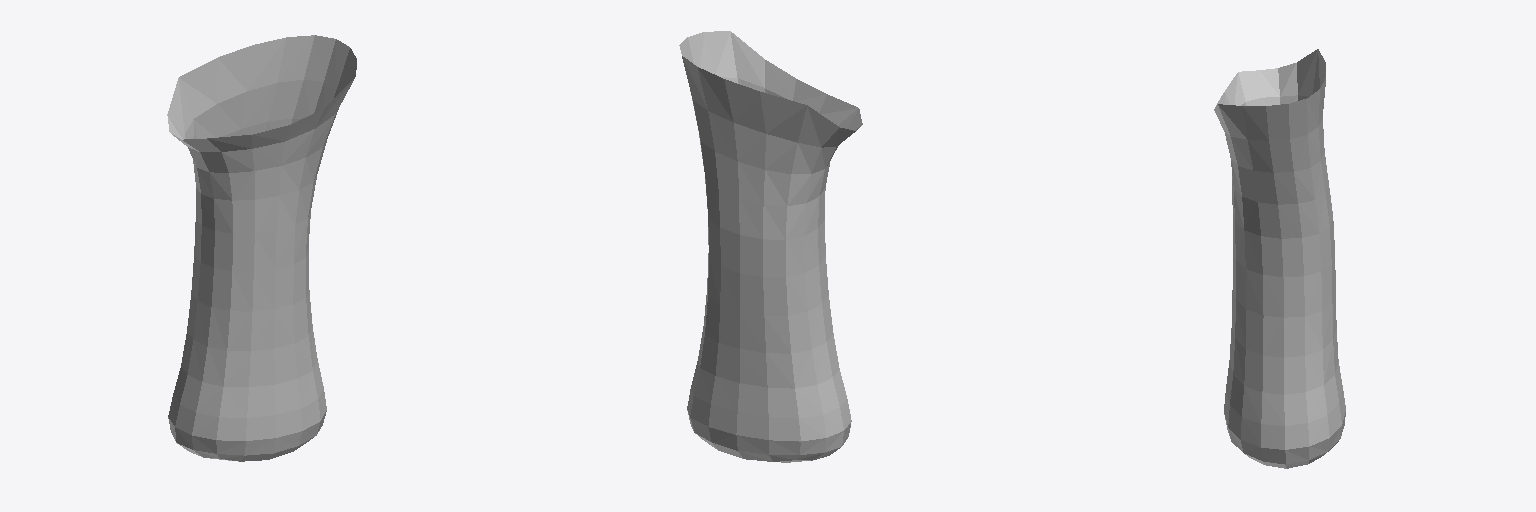
Rendered from DerTras.obj.
3 views of the same model, side by side, from view 1: azimuth 30°, elevation 25°; view 2: azimuth 150°, elevation 25°; view 3: azimuth 270°, elevation 25° (orthographic).
Visible parts, largest first — view 1: polySurface5 polySurface4 polySurface2 Elefante:Mesh1; view 2: polySurface5 polySurface4 polySurface2 Elefante:Mesh1; view 3: polySurface5 polySurface4 polySurface2 Elefante:Mesh1.
Part boxes in pixels (x1,y1,x2,y2): polySurface5 polySurface4 polySurface2 Elefante:Mesh1: (167,35,356,461); polySurface5 polySurface4 polySurface2 Elefante:Mesh1: (679,31,862,462); polySurface5 polySurface4 polySurface2 Elefante:Mesh1: (1214,49,1345,468).
Bounding box in the file's own units: 0.4452 × 0.9431 × 0.2926.